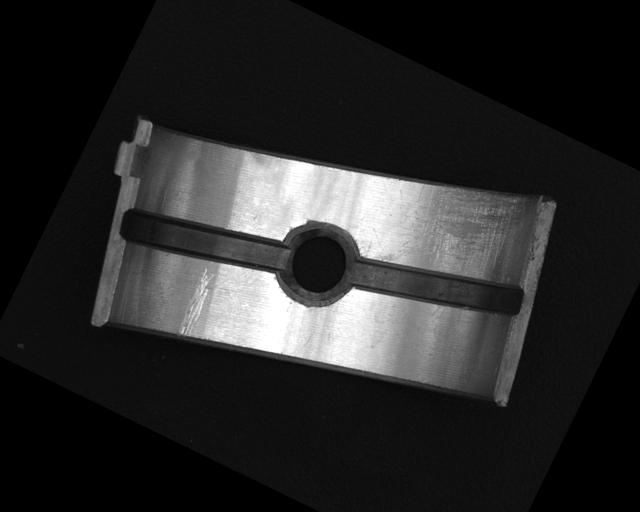gap: (342, 219, 527, 357), (113, 177, 295, 309)
hole: (261, 205, 374, 322)
nick: (173, 265, 220, 341)
scratch: (375, 149, 535, 310)
